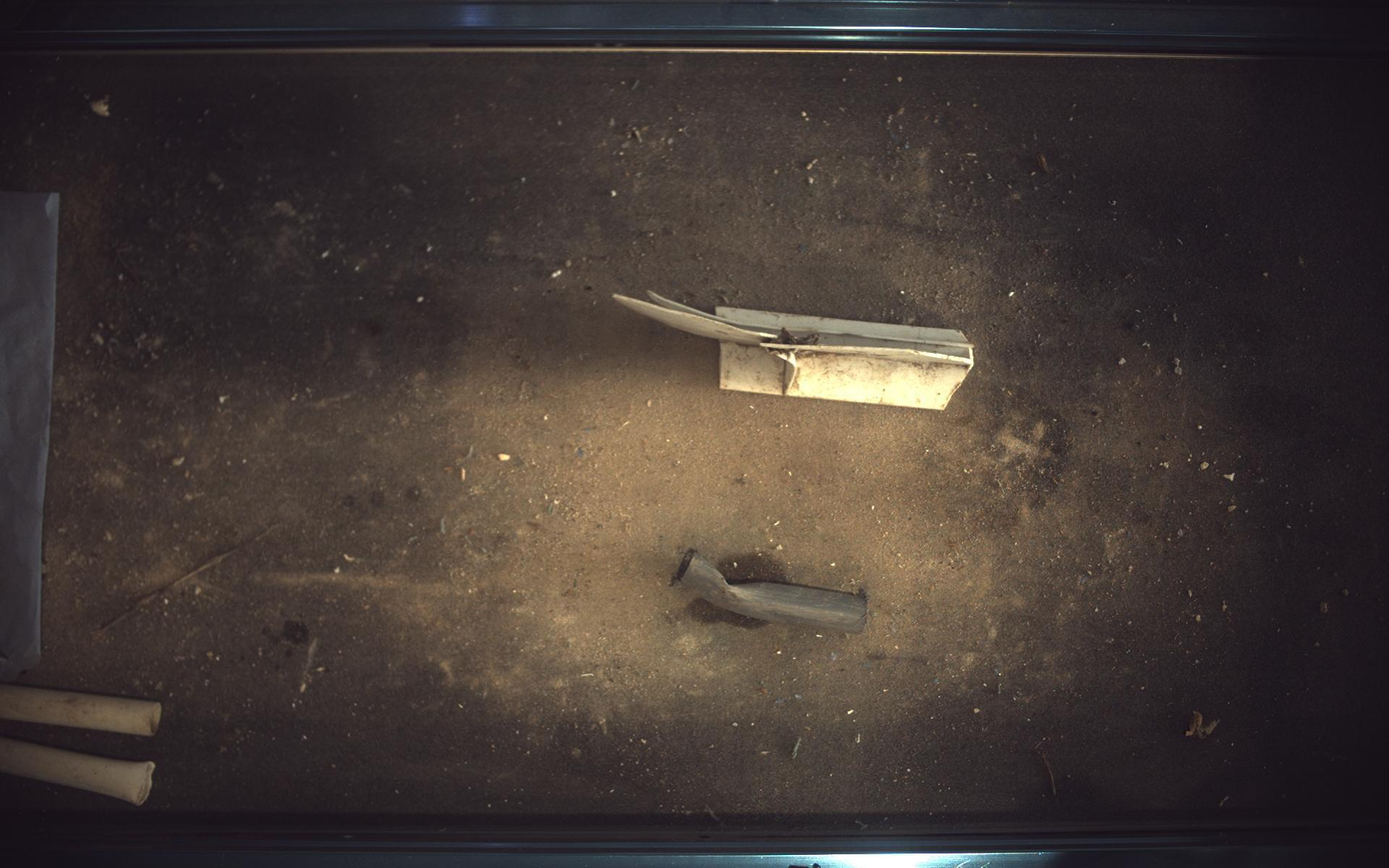pipes: (671, 548, 868, 634), (1, 739, 154, 807), (1, 686, 161, 737)
plastic: (614, 289, 976, 409)
